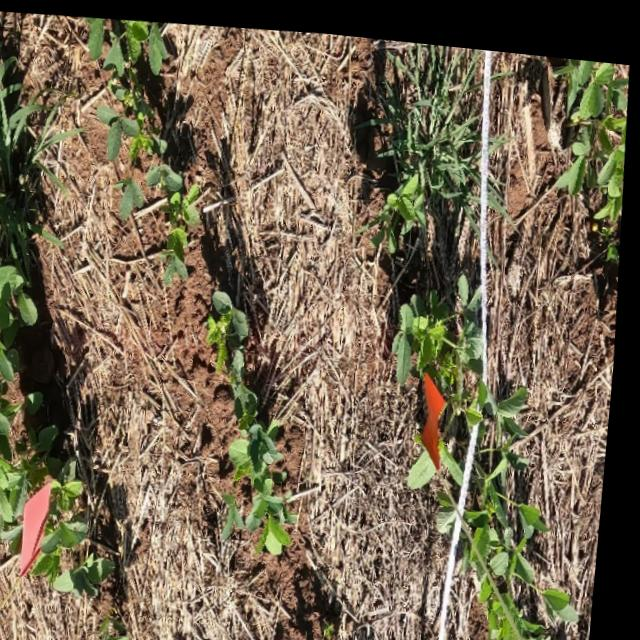grassy_weed: (367, 33, 481, 243), (0, 57, 79, 269)
soy_plant: (399, 265, 589, 640), (0, 232, 125, 595), (87, 15, 203, 281), (212, 286, 303, 546), (558, 46, 629, 218), (104, 613, 137, 640)
